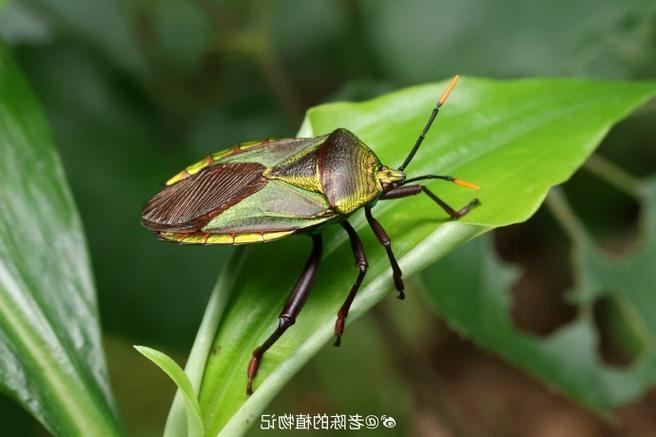Stink_Bug: (158, 135, 412, 278)
